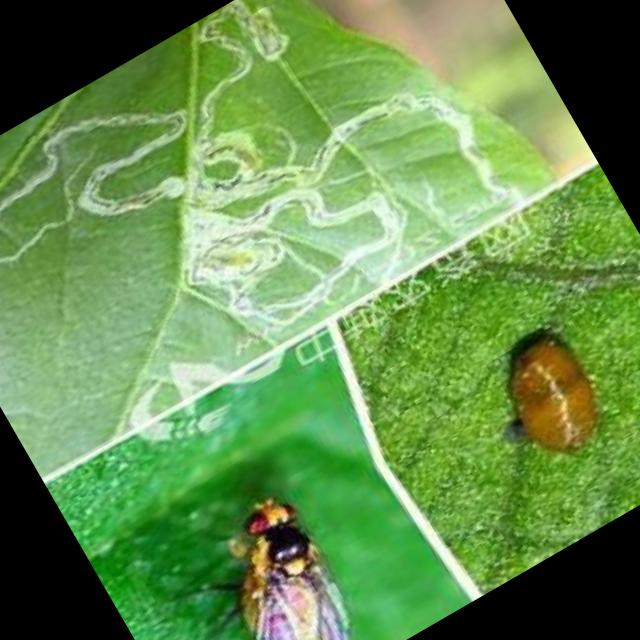whorl-maggot: (474, 310, 632, 482)
